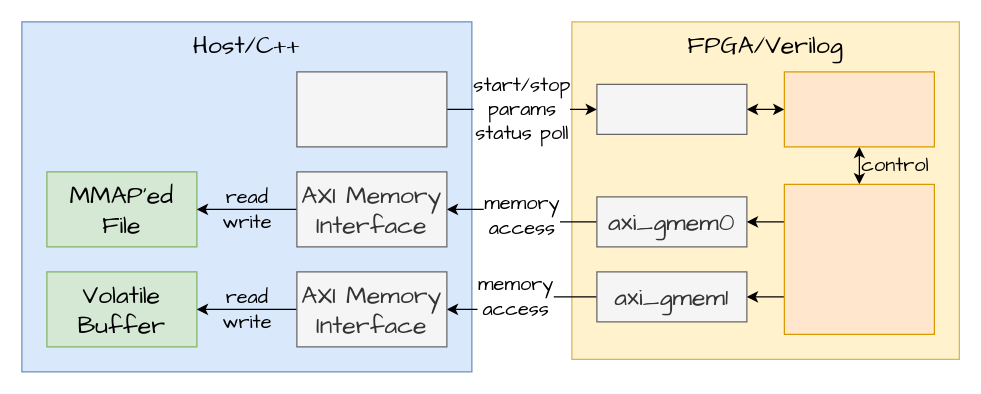
Image size: 981x394. Some labels were removed from this diagram. The shapes that lost their labels are listed below. From the top down, each one's centre as x and y in pixels, then its label:
(x=371, y=109): Controller
(x=671, y=108): axi_control
(x=858, y=109): Control Registers
(x=858, y=258): System Under Test
